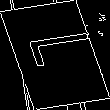L_E: (12, 35, 98, 75)
